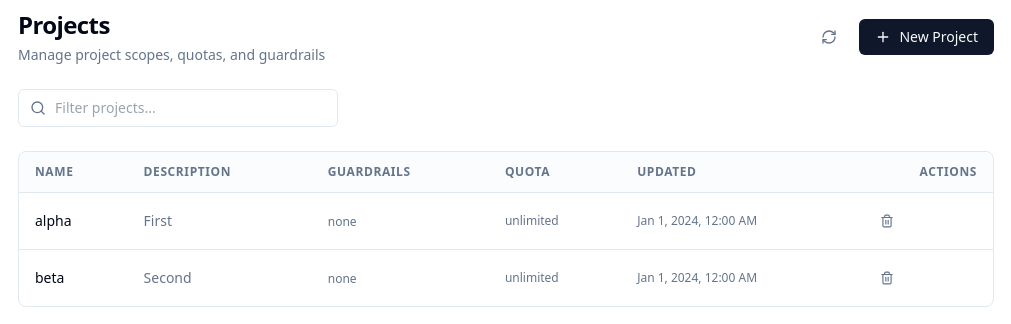
Projects › interactions › search input filters projects
Expected: the text "alpha" is shown, [35,211,72,230]
Expected: the text "beta" is shown, [35,268,64,287]
Type "alpha" into the field labelled "Filter projects".
click(178, 108); type("alpha")  # box [18,89,338,127]
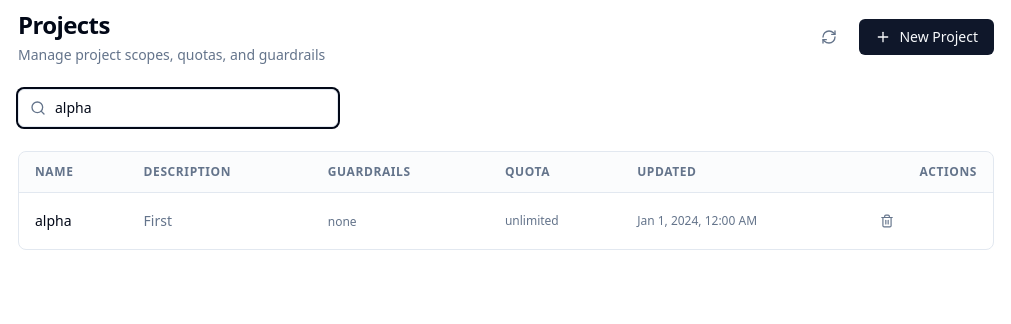
Expected: the text "alpha" is shown, [35,211,72,230]
Expected: the text "beta" is gone
